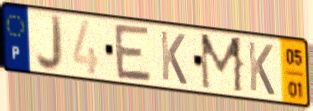4: (71, 17, 102, 78)
E: (113, 21, 154, 85)
J: (34, 12, 65, 74)
K: (246, 39, 277, 98), (158, 28, 189, 87)
M: (198, 32, 246, 96)
